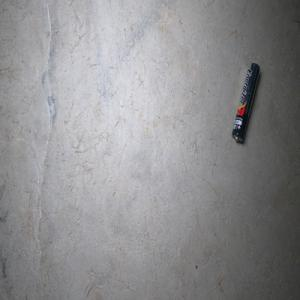Battery: (231, 62, 260, 143)
